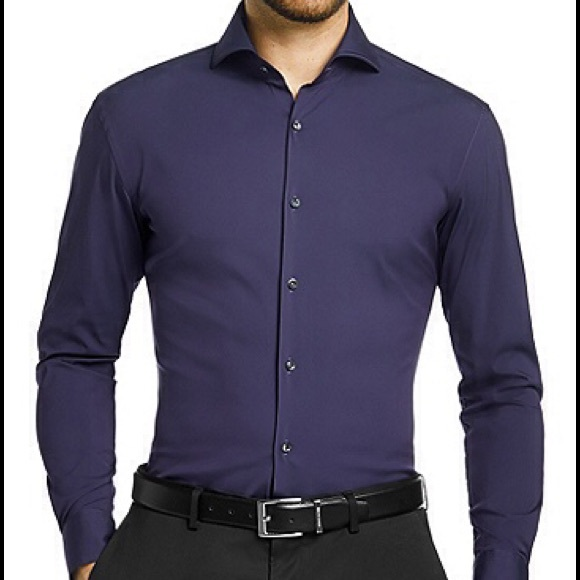F_belt: (122, 464, 439, 535)
F_shirt: (40, 7, 555, 574)
